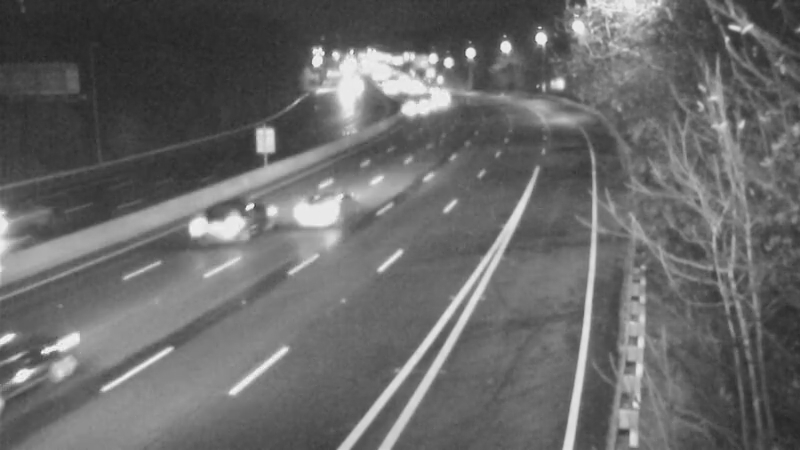vehicle: (1, 318, 96, 428), (280, 166, 360, 246), (172, 189, 252, 269), (1, 182, 66, 262), (418, 73, 468, 123), (383, 81, 433, 131)
